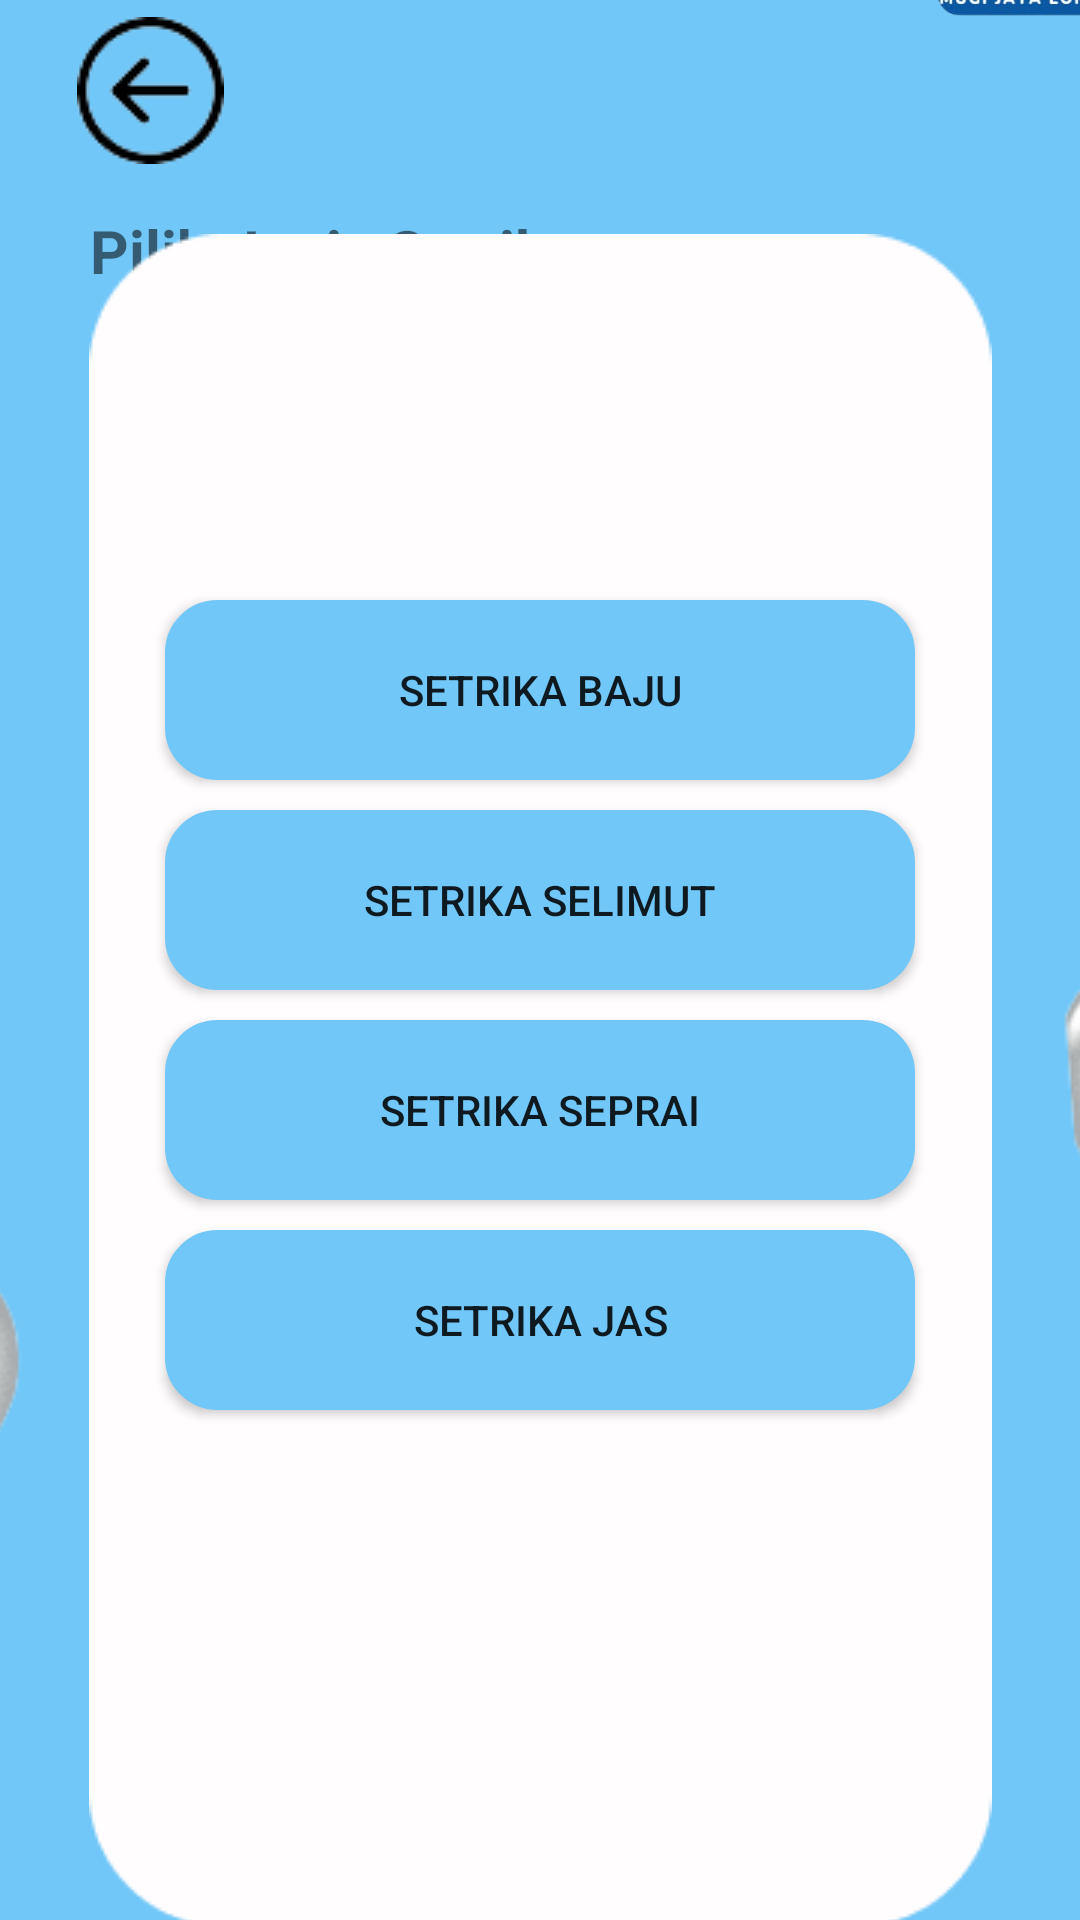

Screen size 1080*1920. Icon name, then its box in pixels as (x1, y1, x2, y2):
iconkembali: (77, 17, 224, 164)
